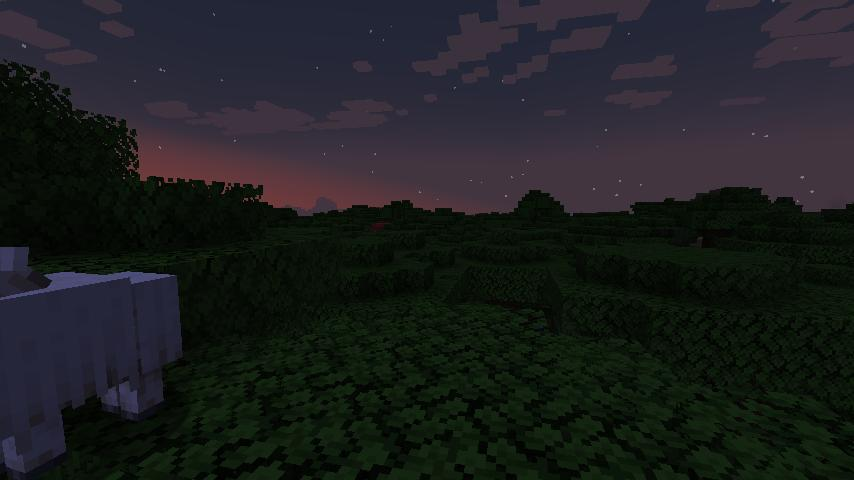goat: (0, 243, 189, 480)
